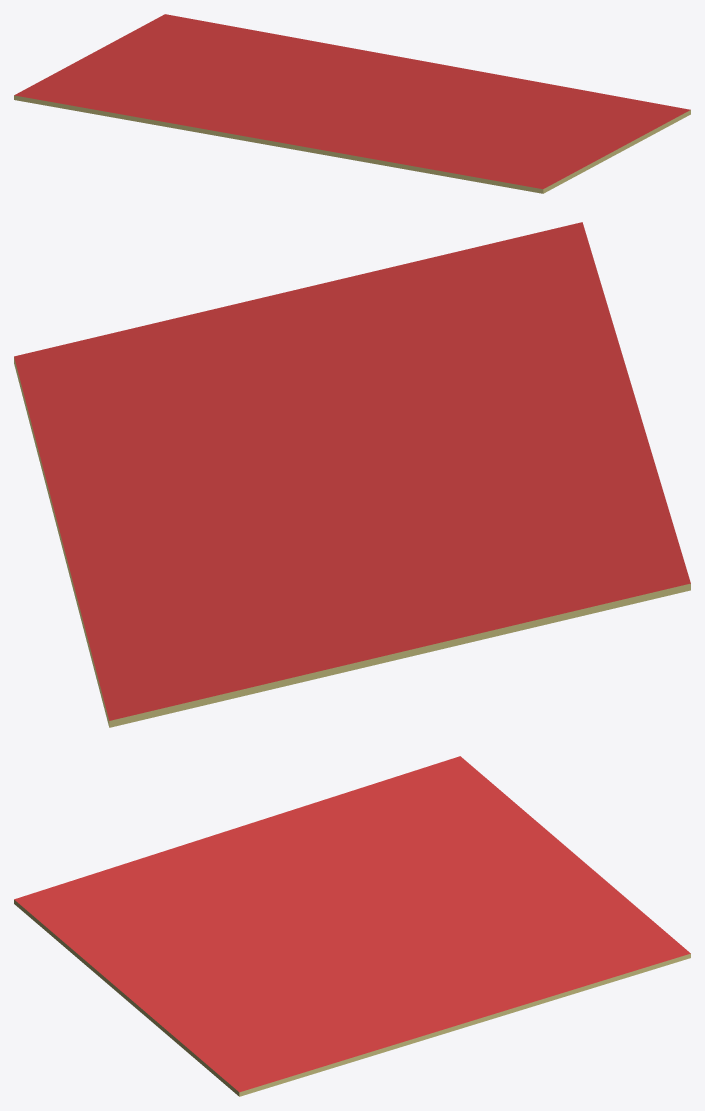
The picture shows the model from 3 angles, top to bottom: view 1: azimuth 30°, elevation 25°; view 2: azimuth 150°, elevation 25°; view 3: azimuth 270°, elevation 25°; orthographic projection. The views are drawn at different scales.
Bounding box in the file's own units: 12.82 × 13.65 × 1.64.
